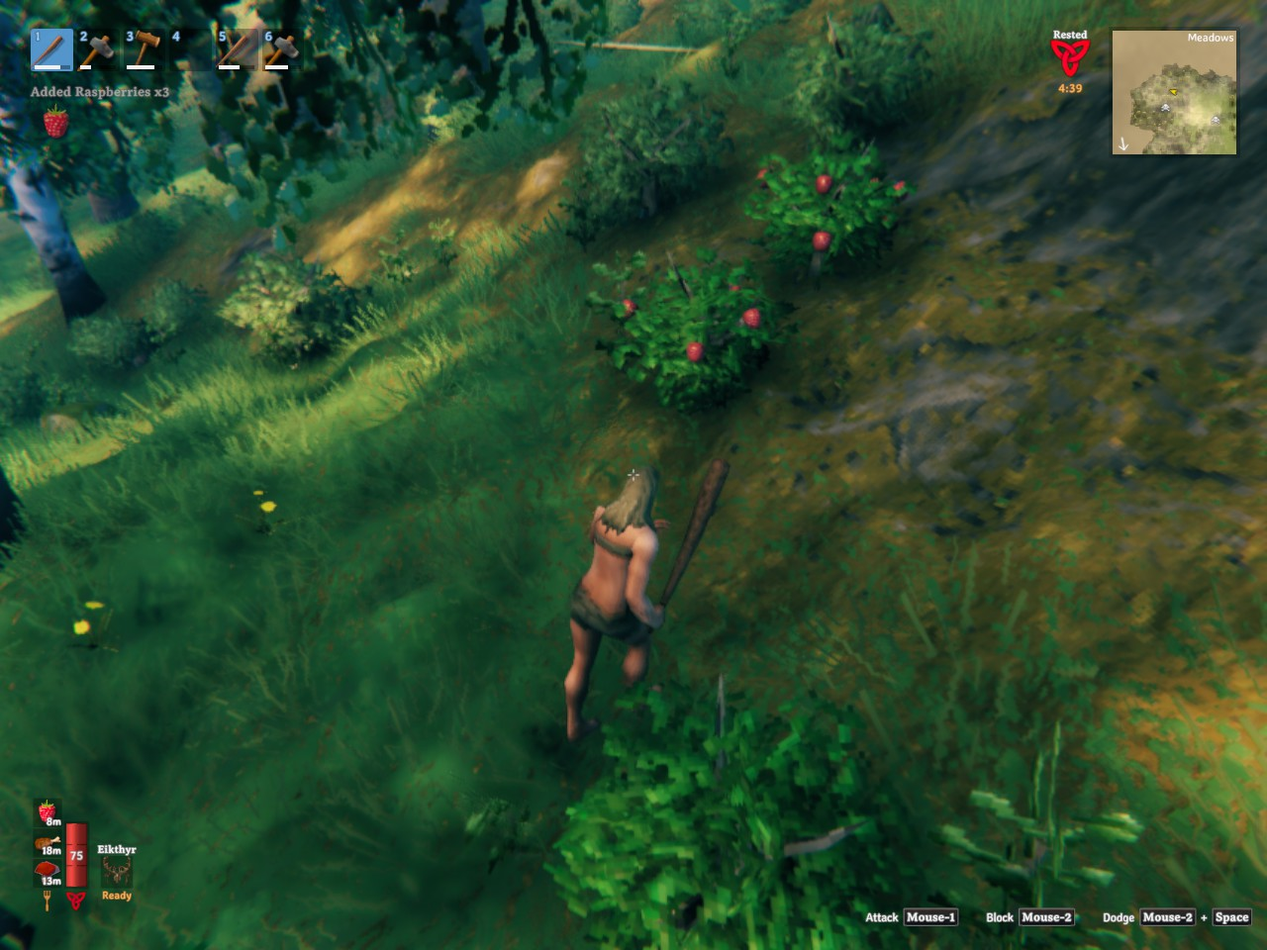Food Indicator: (36, 797, 63, 891)
Health Bar: (63, 820, 90, 891)
Hotbar: (25, 21, 398, 78)
Raspberries: (621, 282, 781, 392), (756, 162, 912, 261)
Status Indicator: (1039, 25, 1106, 101)
